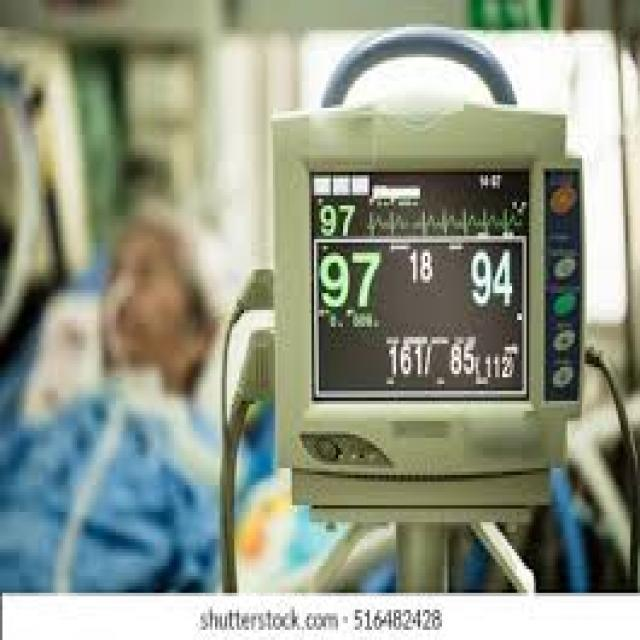cardiac_monitor: (283, 130, 575, 526)
